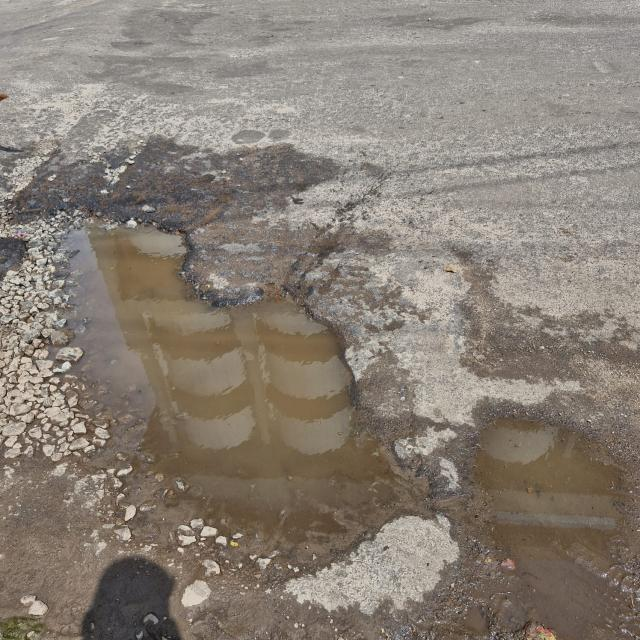pothole: (3, 183, 438, 549), (456, 382, 638, 640)
